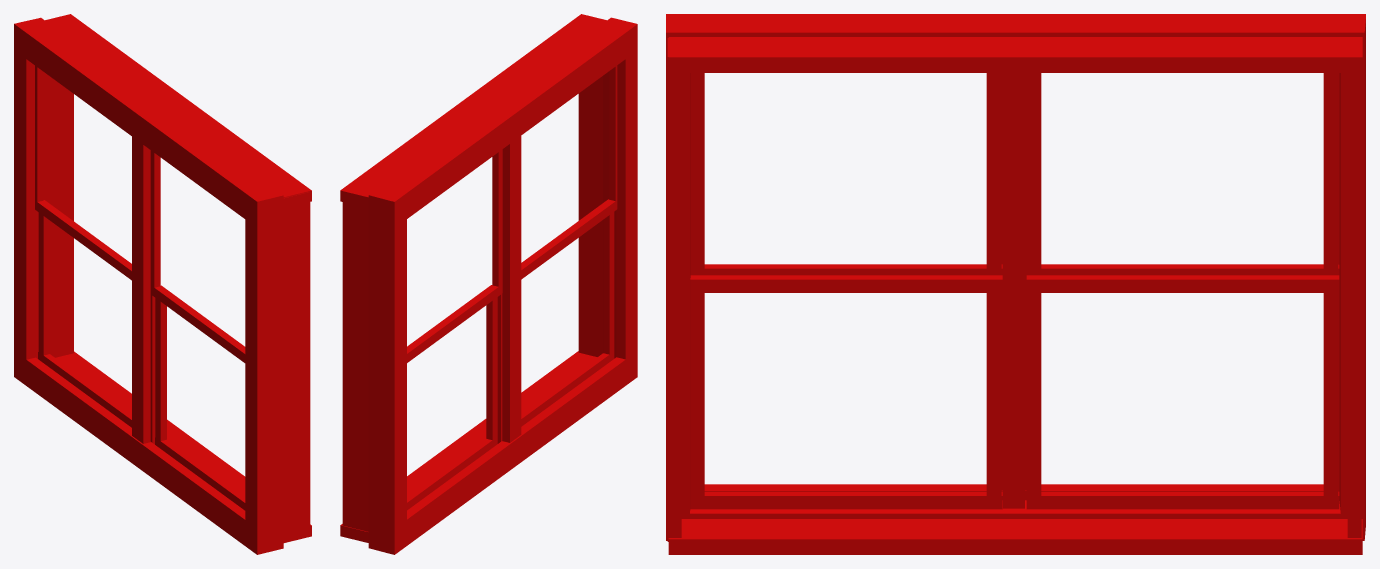
File: Window_A_02B_Lod0.fbx
3 views of the same model, side by side, from view 1: azimuth 30°, elevation 25°; view 2: azimuth 150°, elevation 25°; view 3: azimuth 270°, elevation 25° (orthographic). The views are drawn at different scales.
Parts seen in each view (by area): view 1: Window_A_02B_Lod0; view 2: Window_A_02B_Lod0; view 3: Window_A_02B_Lod0.
Boxes of the visible parts, box(x1,y1,x2,y2) form: Window_A_02B_Lod0: box(14, 14, 311, 554); Window_A_02B_Lod0: box(340, 14, 637, 554); Window_A_02B_Lod0: box(666, 14, 1365, 554).
Bounding box in the file's own units: 22.84 × 139 × 173.
